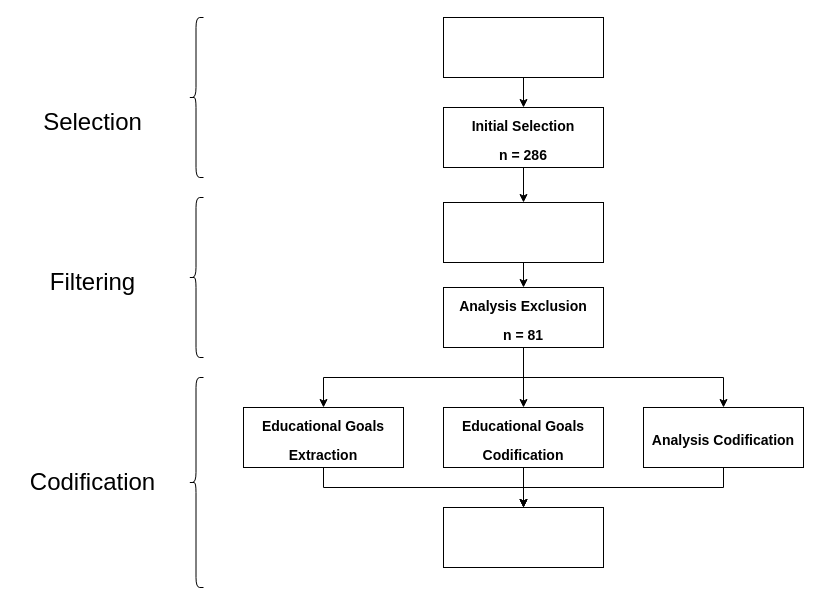
This 821x605 diagram has some shape labels left out. The shapes that lost their labels are listed below. From the top down, each one's centre as x and y in pixels, then its label:
(523,47): Google Scholar Search n = 10000+
(523,232): Criteria Exclusion n = 110
(523,537): Final Consensus n = 67
